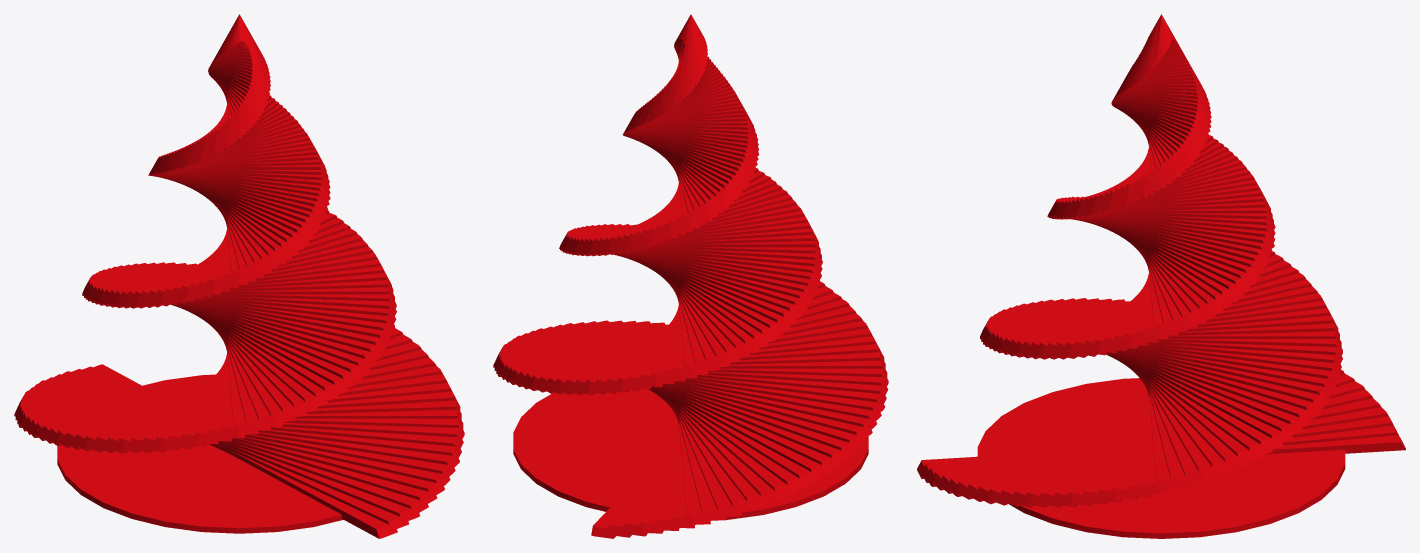
The model's file is rojito.gltf.
3 views of the same model, side by side, from view 1: azimuth 30°, elevation 25°; view 2: azimuth 150°, elevation 25°; view 3: azimuth 270°, elevation 25° (orthographic). The views are drawn at different scales.
Visible parts, largest first — view 1: Mesh_0; view 2: Mesh_0; view 3: Mesh_0.
Part boxes in pixels (<box>): Mesh_0: <box>14,14,464,538</box>; Mesh_0: <box>493,14,888,538</box>; Mesh_0: <box>917,14,1405,538</box>.
Bounding box in the file's own units: 6.99 × 8 × 7.93.
